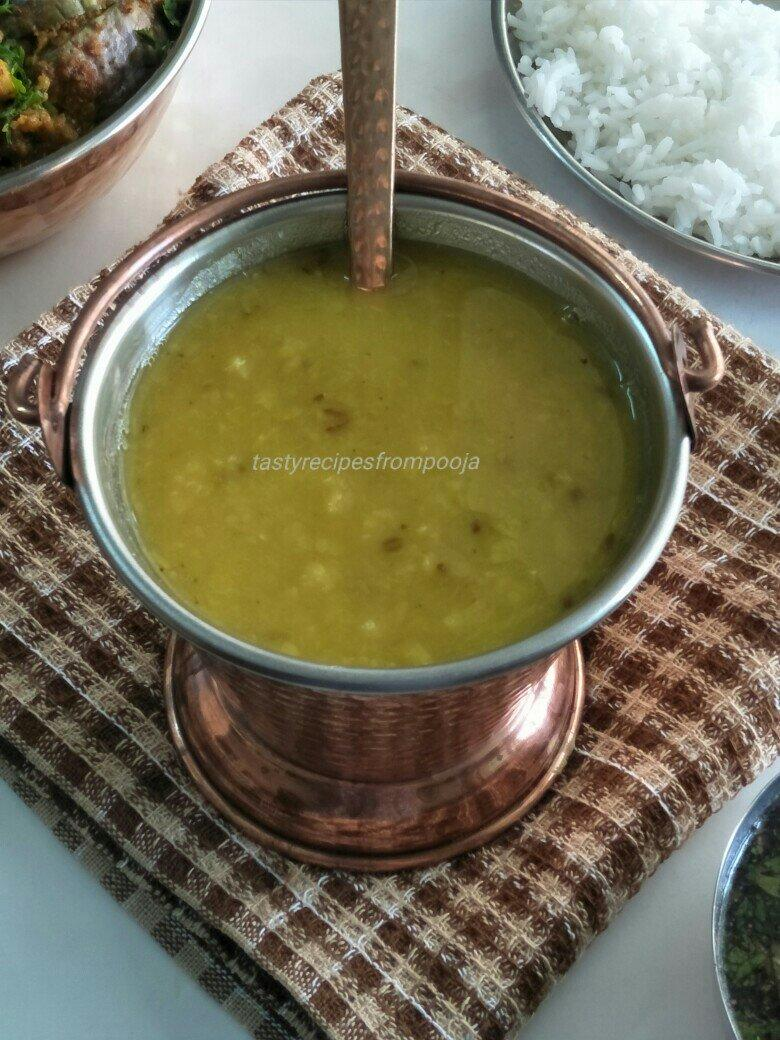varan: (96, 228, 662, 632)
